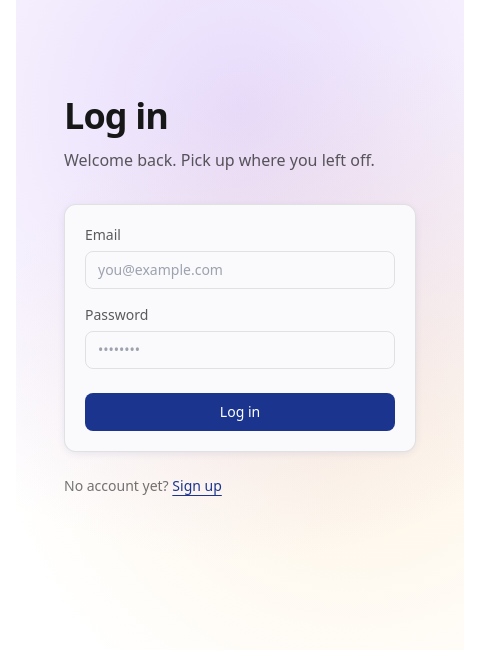
Test: Login page › shows an error message when sign-in fails
Type "jane@example.com" into the field with placeholder "you@example.com".
click(240, 270); type("jane@example.com")  # box [85, 251, 395, 289]
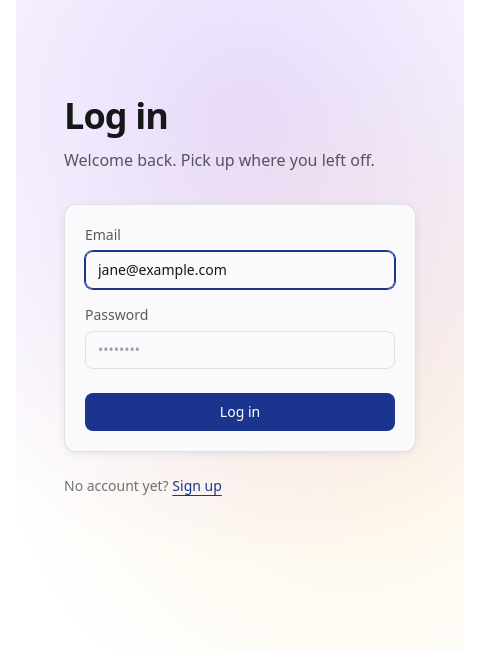
Type "wrong" into the password field with placeholder "••••••••".
click(240, 350); type("wrong")  # box [85, 331, 395, 369]
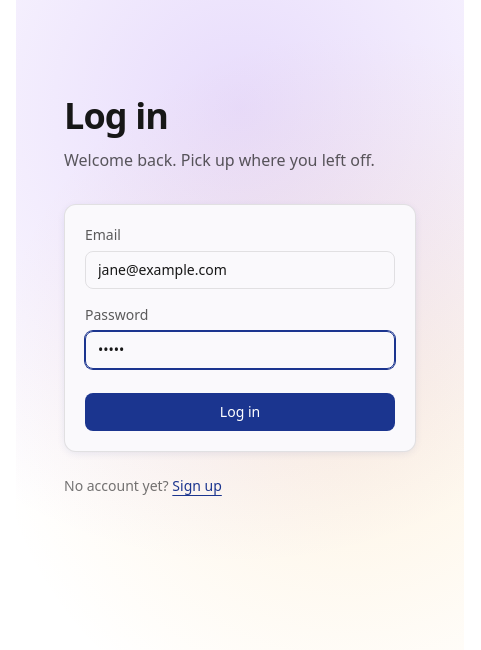
Click the button "Log in".
click(240, 412)  # box [85, 393, 395, 431]
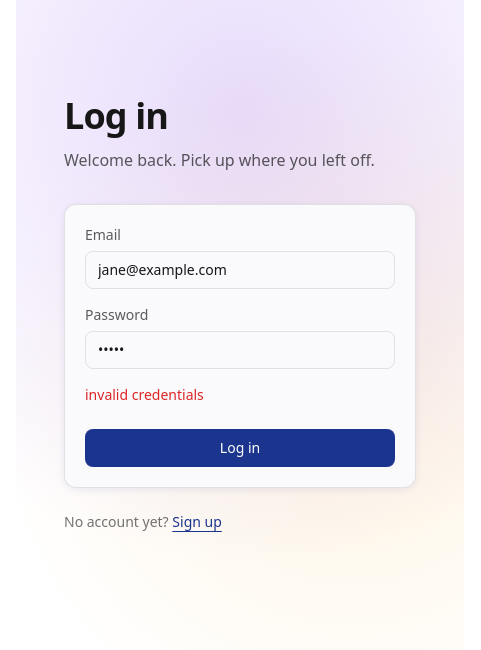
expect the text "invalid credentials" is shown: met, box [85, 385, 204, 404]
